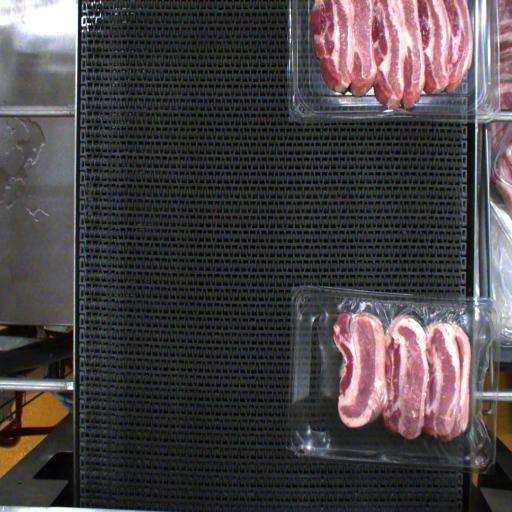unsealed: (296, 288, 489, 446)
